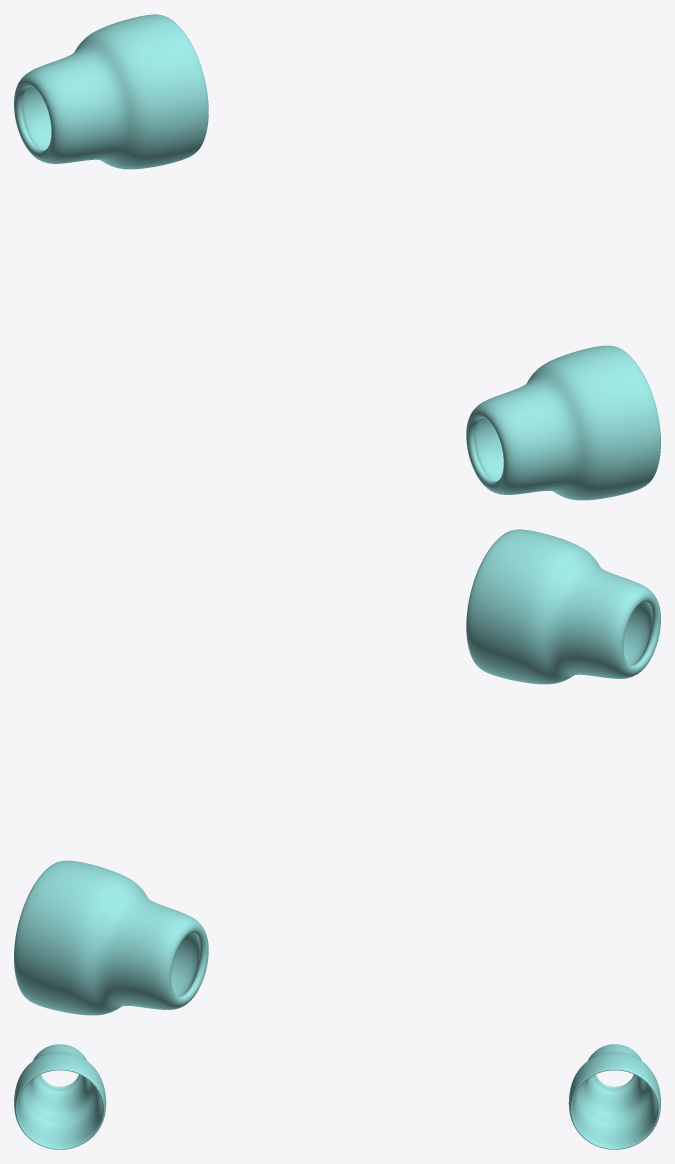
Rendered from spaceship_boost.glb.
3 views of the same model, one above another, from view 1: azimuth 30°, elevation 25°; view 2: azimuth 150°, elevation 25°; view 3: azimuth 270°, elevation 25° (orthographic). The views are drawn at different scales.
Visible parts, largest first — view 1: Robo_spacecraft_boost; view 2: Robo_spacecraft_boost; view 3: Robo_spacecraft_boost.
Part boxes in pixels (left/top/right/bottom): Robo_spacecraft_boost: left=14, top=14, right=660, bottom=500; Robo_spacecraft_boost: left=14, top=529, right=660, bottom=1015; Robo_spacecraft_boost: left=14, top=1044, right=660, bottom=1149.
Size of the model in its own units: 0.7883 by 0.7367 by 5.17.
